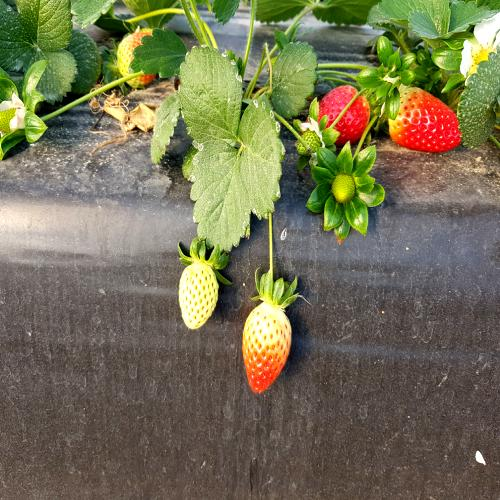partially-ripe: (384, 66, 480, 182), (236, 293, 296, 417)
